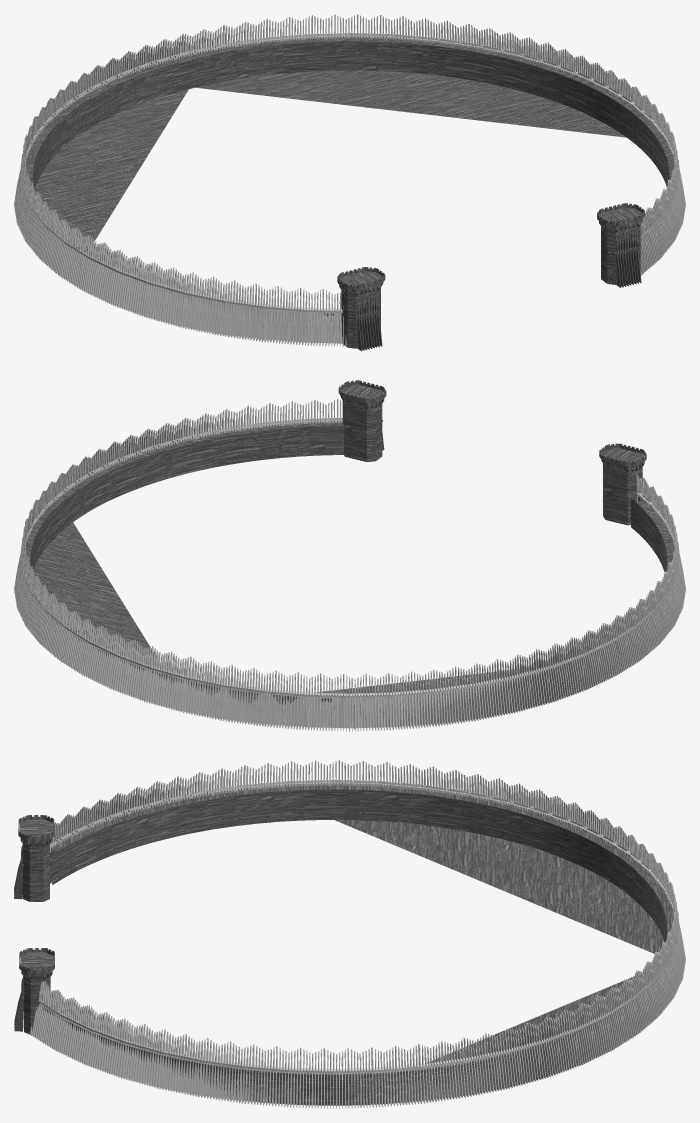
File: orthan_tower_wall.fbx
3 views of the same model, one above another, from view 1: azimuth 30°, elevation 25°; view 2: azimuth 150°, elevation 25°; view 3: azimuth 270°, elevation 25° (orthographic). The views are drawn at different scales.
Visible parts, largest first — view 1: LVL 1 Pared, Tower.000, Tower.002, LVL 1 suelo torre puerta izq; view 2: Tower.000, LVL 1 Pared, Tower.002, LVL 1 suelo torre puerta izq; view 3: Tower.000, LVL 1 Pared, LVL 1 suelo torre puerta izq, Tower.002.
Part boxes in pixels (x1,y1,x2,y2): LVL 1 Pared: [26, 37, 674, 316]; Tower.000: [14, 14, 685, 346]; Tower.002: [597, 203, 644, 287]; LVL 1 suelo torre puerta izq: [337, 267, 385, 351]; Tower.000: [14, 399, 685, 731]; LVL 1 Pared: [25, 422, 674, 704]; Tower.002: [338, 380, 386, 462]; LVL 1 suelo torre puerta izq: [599, 443, 646, 525]; Tower.000: [28, 760, 685, 1108]; LVL 1 Pared: [40, 785, 673, 1105]; LVL 1 suelo torre puerta izq: [14, 815, 54, 901]; Tower.002: [14, 948, 54, 1034].
Bounding box in the file's own units: 1547 × 227 × 1476.
